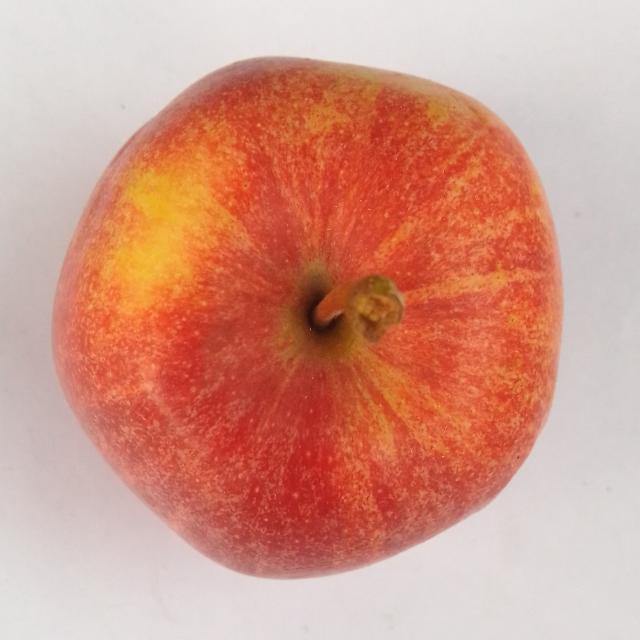Fresh Apple: (45, 52, 567, 580)
